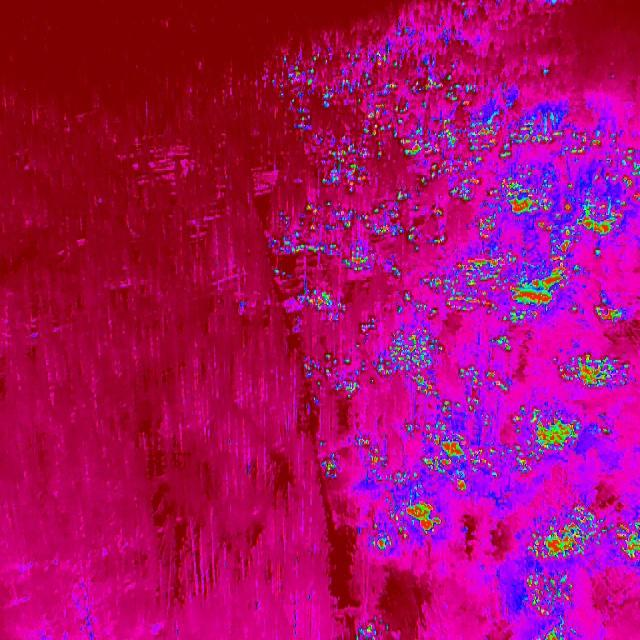fire: (267, 32, 493, 198), (272, 202, 450, 310), (498, 148, 640, 260), (447, 255, 590, 336), (404, 397, 514, 495), (508, 399, 620, 479), (372, 332, 462, 399), (528, 502, 611, 564), (544, 343, 634, 392), (364, 494, 442, 550), (501, 121, 603, 163), (302, 350, 374, 402), (356, 437, 404, 488), (524, 568, 574, 616), (456, 359, 518, 396), (298, 285, 353, 326), (314, 436, 344, 483), (592, 296, 636, 326), (350, 611, 389, 640), (613, 520, 640, 560), (470, 213, 500, 245), (486, 332, 520, 360), (538, 629, 563, 640)
